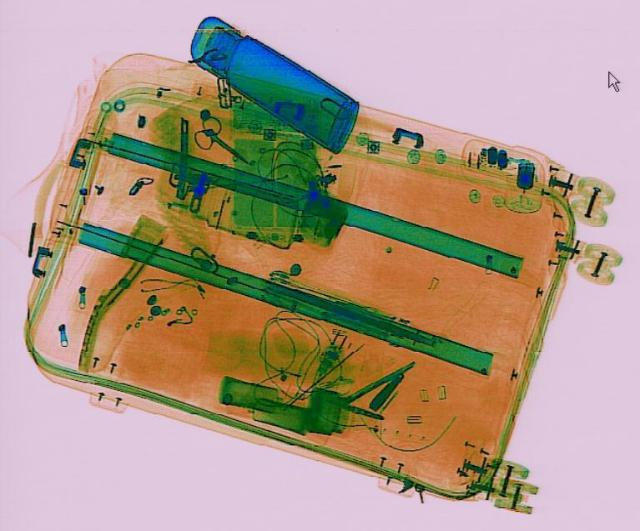Scissors: (183, 114, 265, 174)
